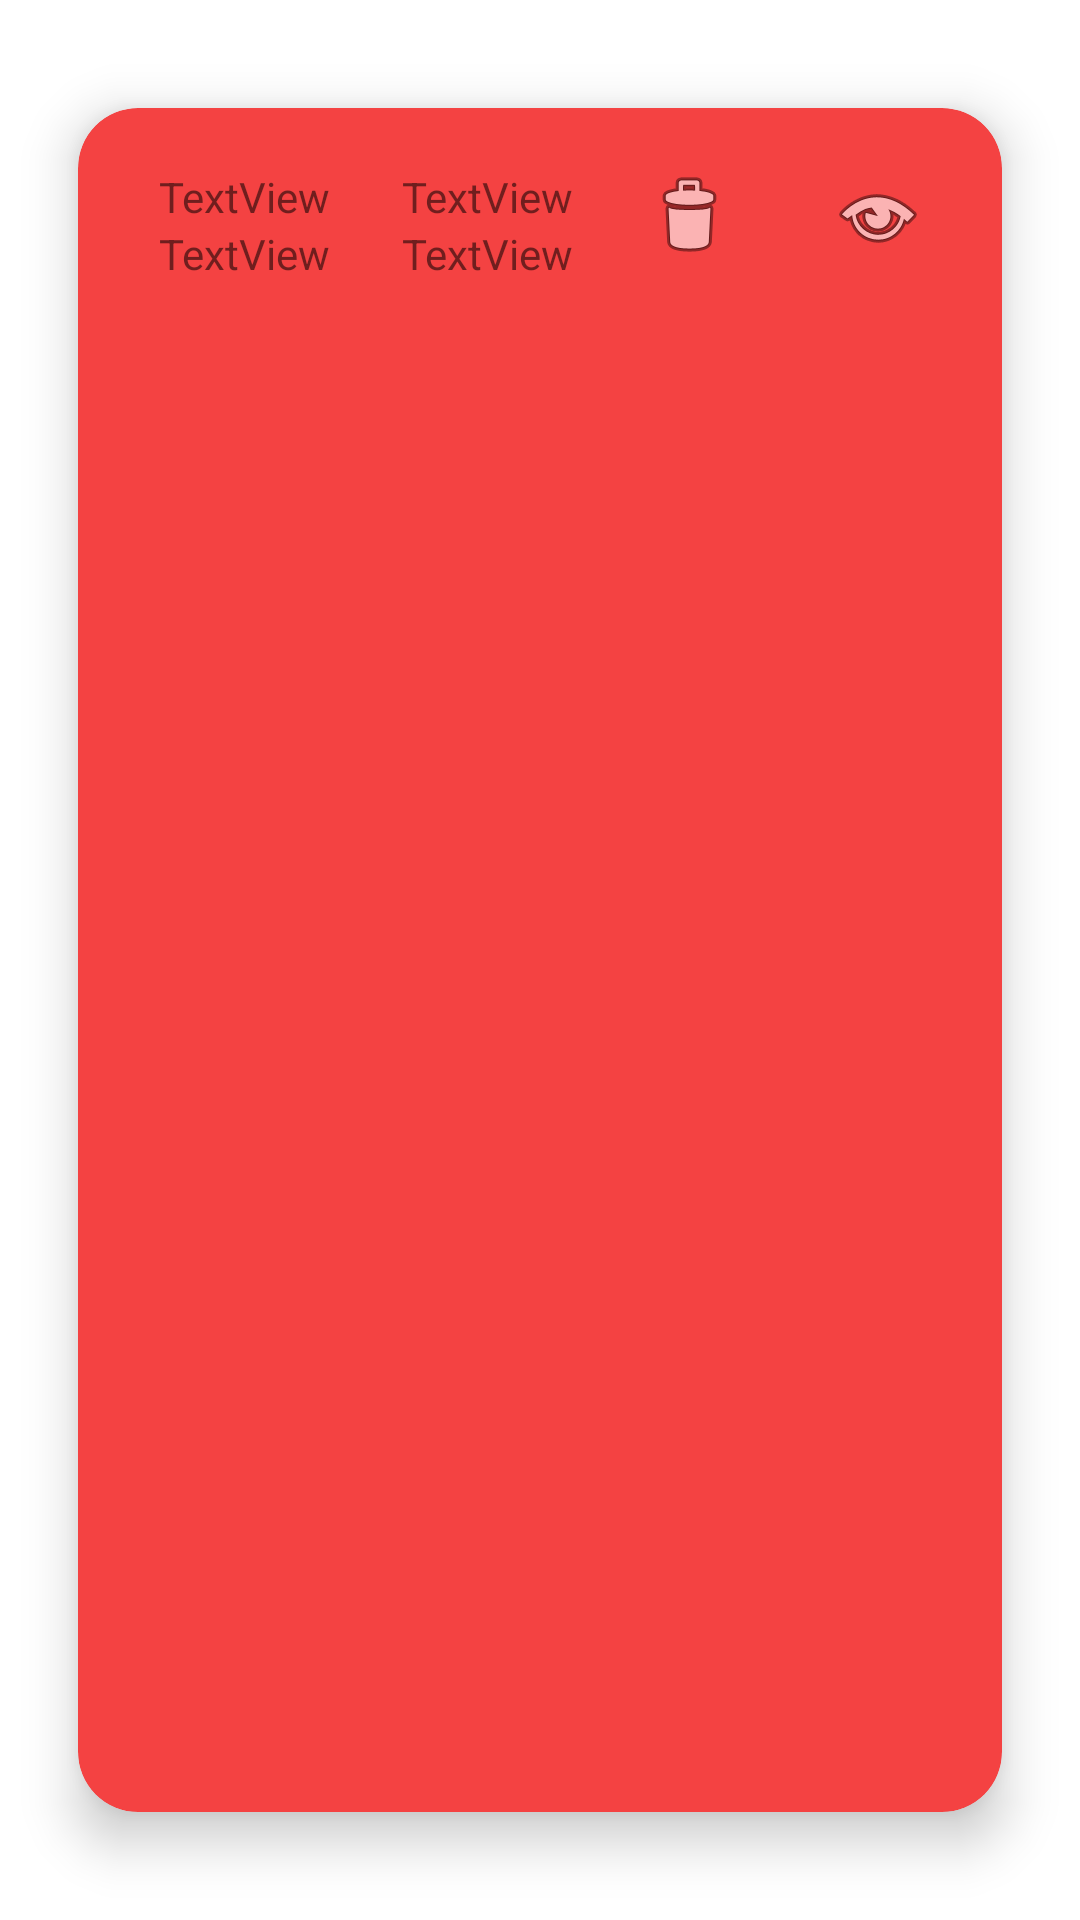

Screen size 1080*1920. Icon name, then its box in pixels as (x1, y1, x2, y2):
delete: (662, 177, 717, 252)
view: (839, 194, 917, 243)
